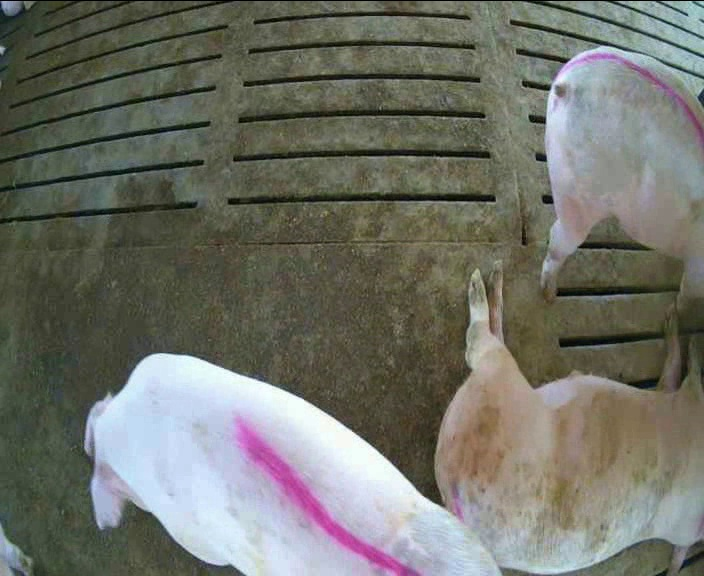pig: (85, 354, 498, 574), (435, 260, 703, 575), (542, 47, 703, 322)
